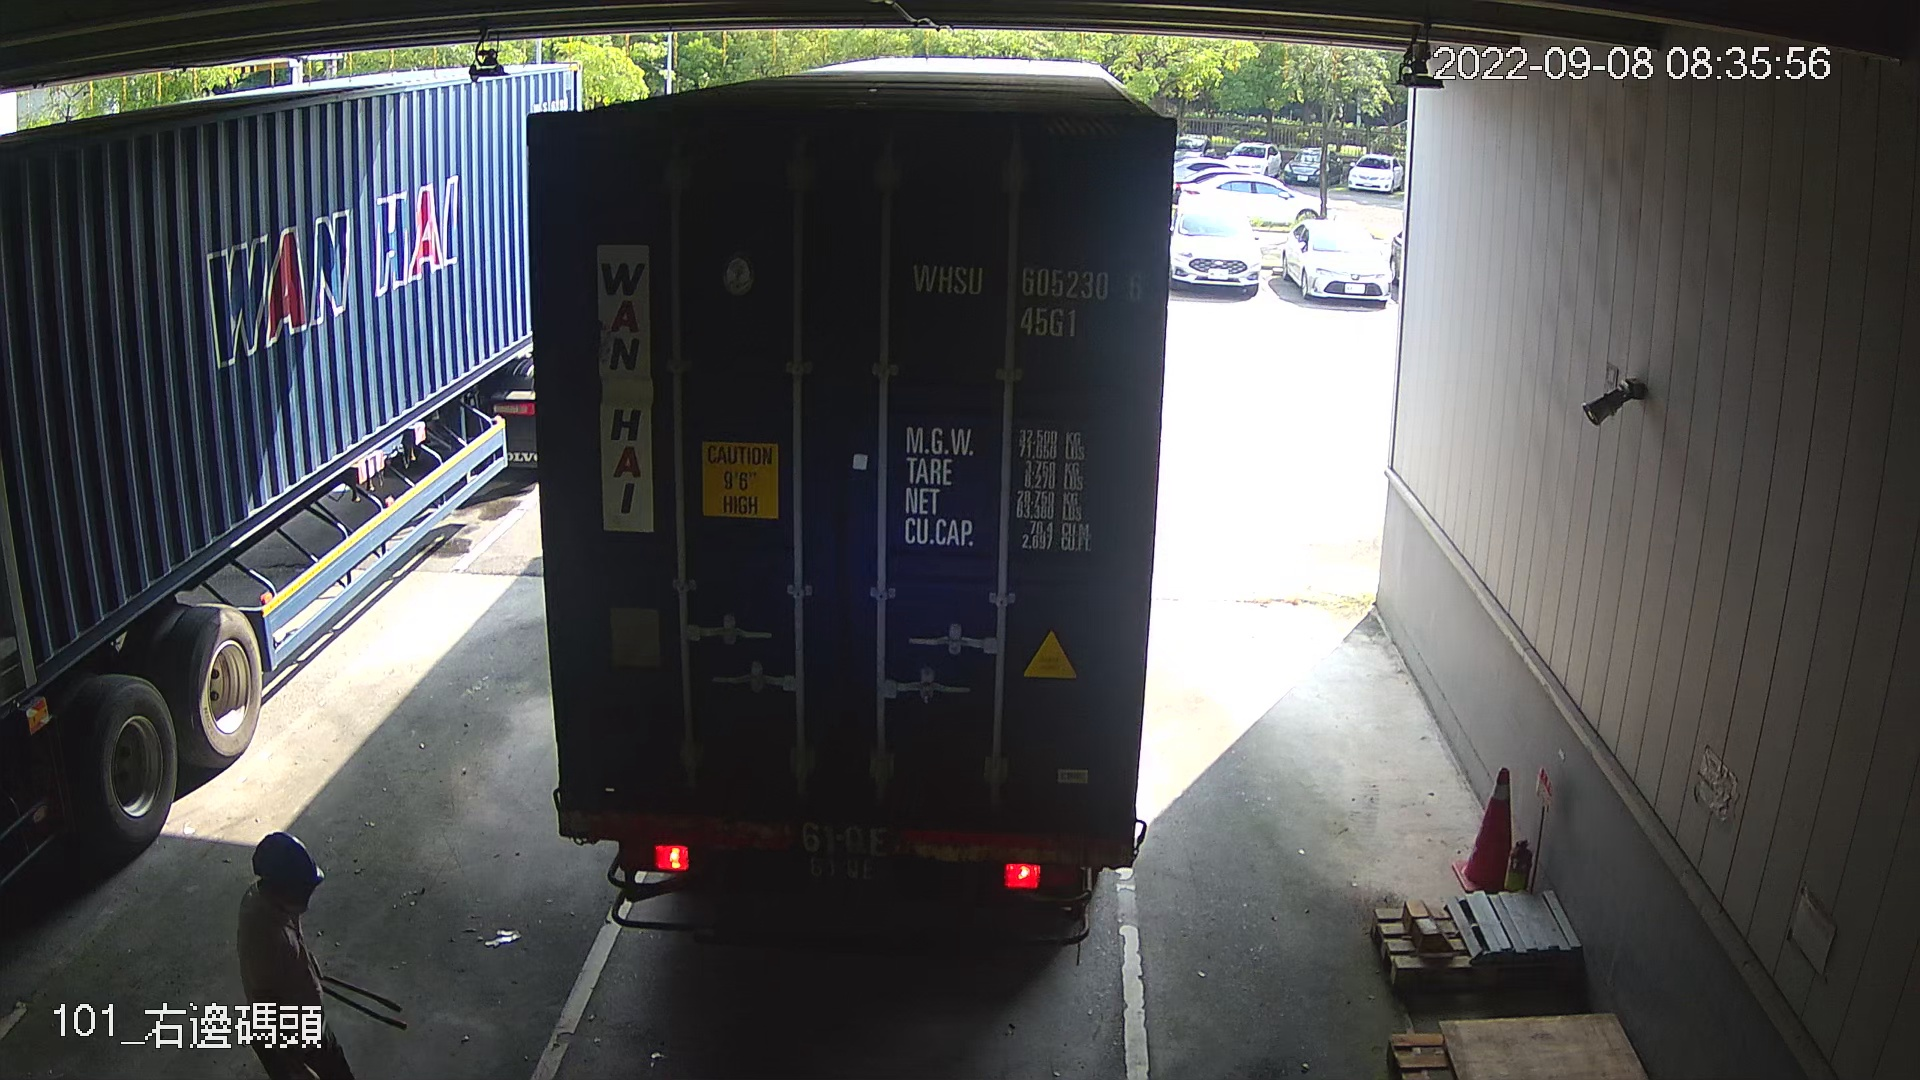container: (901, 244, 1153, 351)
